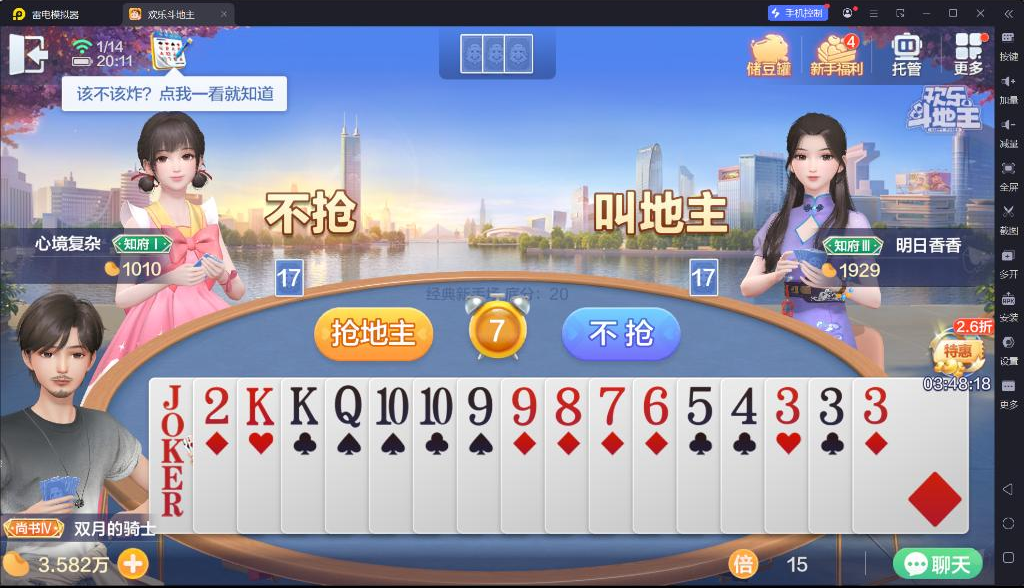JOKER: (159, 382, 186, 473)
K: (242, 382, 278, 430), (287, 383, 321, 428)
Q: (329, 383, 364, 429)
eight: (549, 383, 583, 427)
five: (682, 383, 716, 427)
four: (727, 383, 760, 427)
nine: (506, 383, 540, 427), (464, 384, 496, 427)
seven: (596, 384, 626, 427)
six: (636, 384, 672, 427)
ten: (372, 384, 411, 431), (418, 384, 454, 427)
three: (814, 383, 846, 429), (859, 384, 893, 426), (772, 383, 803, 427)
two: (200, 381, 232, 427)
